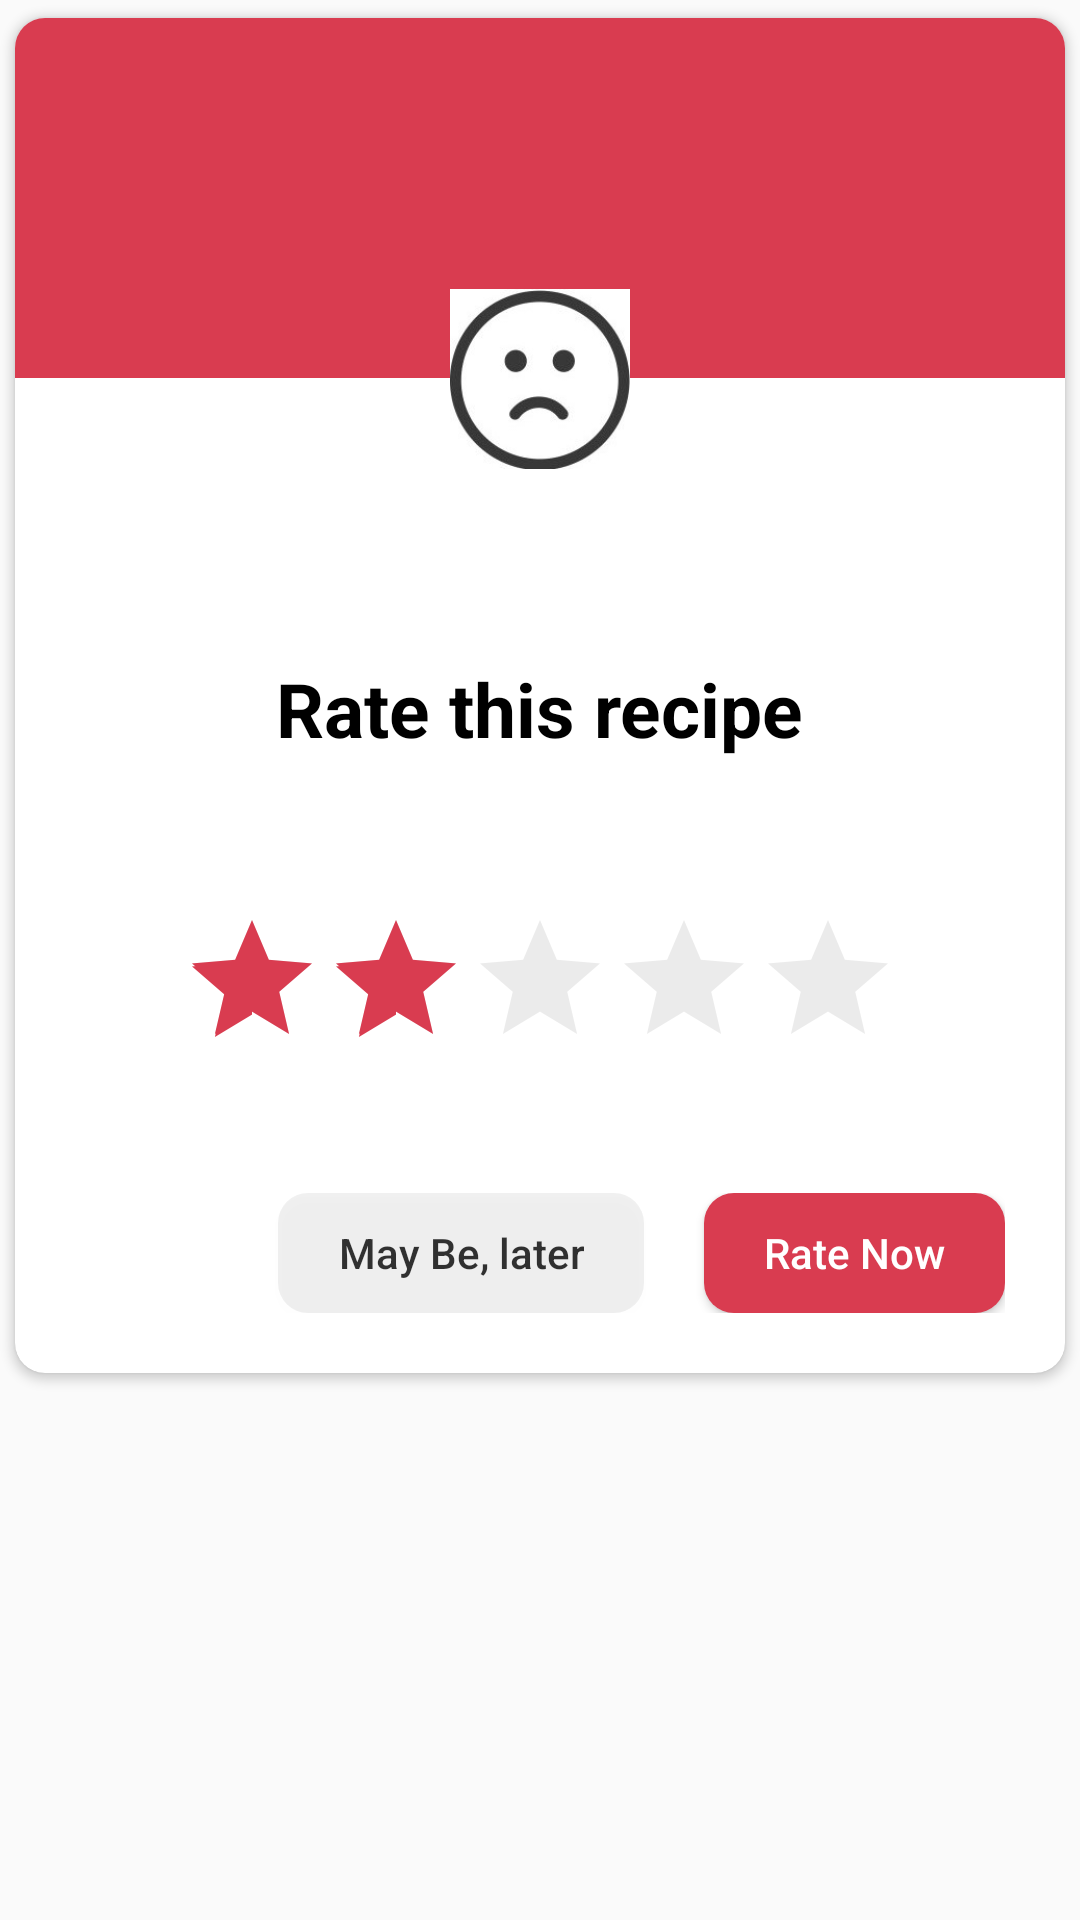

Point at icon controls on the screen. Image size 1080px x 1920px, points as (x=x, y=y).
emoji: (x=540, y=379)
